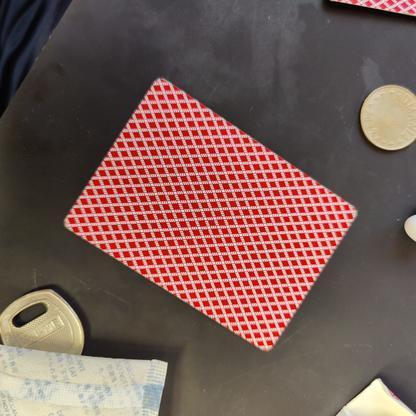card: (62, 70, 364, 358)
